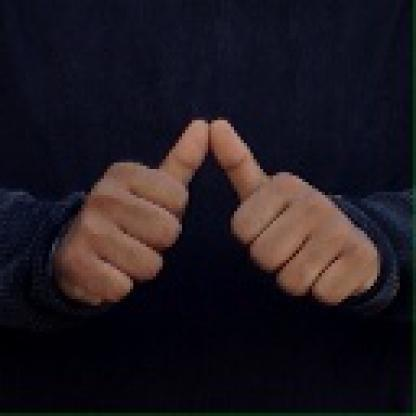A: (42, 115, 372, 326)
